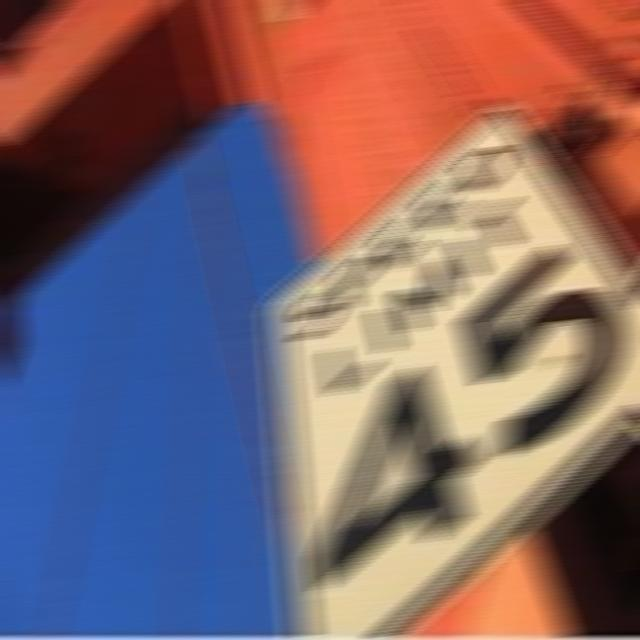speedLimit45: (270, 107, 633, 620)
